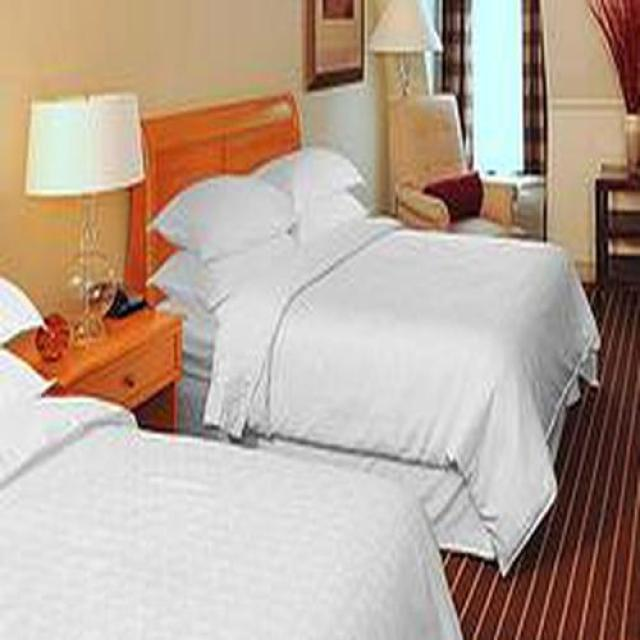bed: (124, 92, 599, 576)
